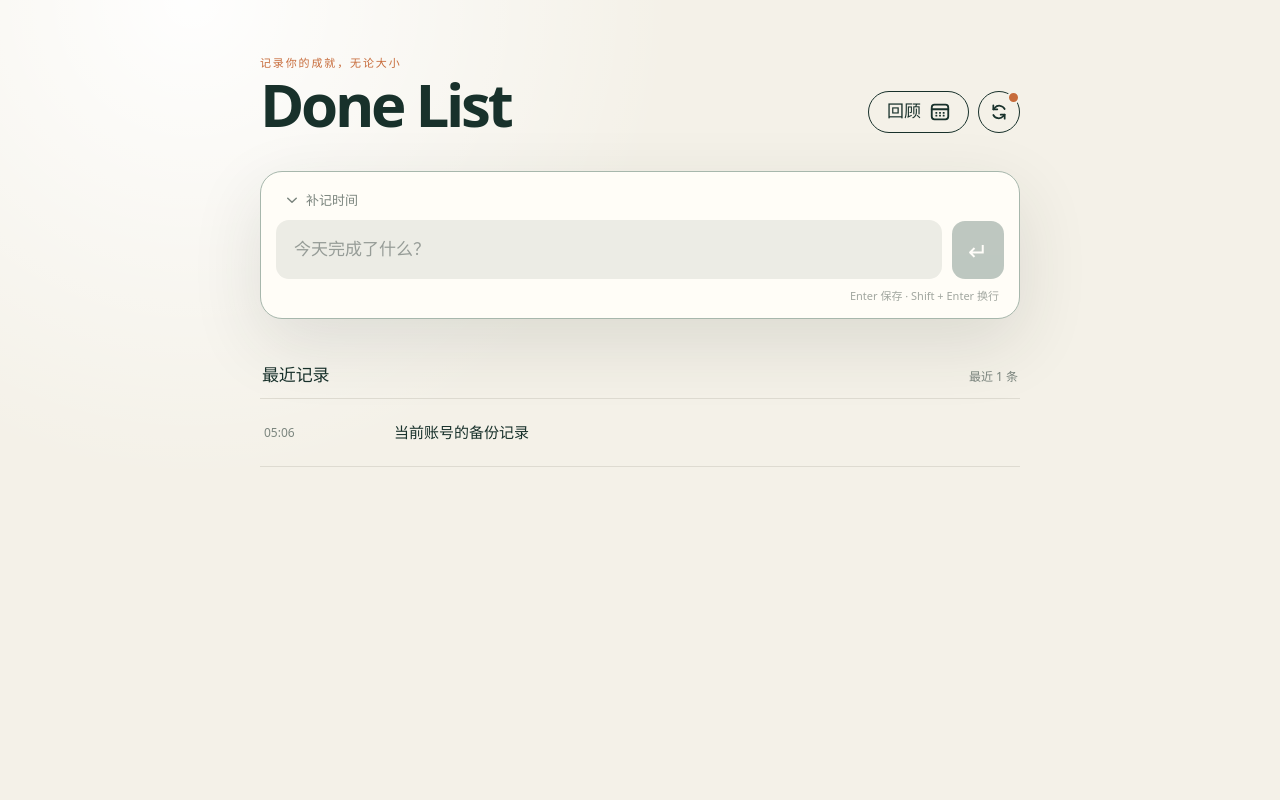
Test case: App: local records before background sync › exports only the signed-in account through the collapsed data-management entry
The image size is (1280, 800).
Check: the text "当前账号的备份记录" is shown, box [394,422,529,442]
Click the button named "同步与账户". click: (999, 112)
box: [978,91,1020,133]
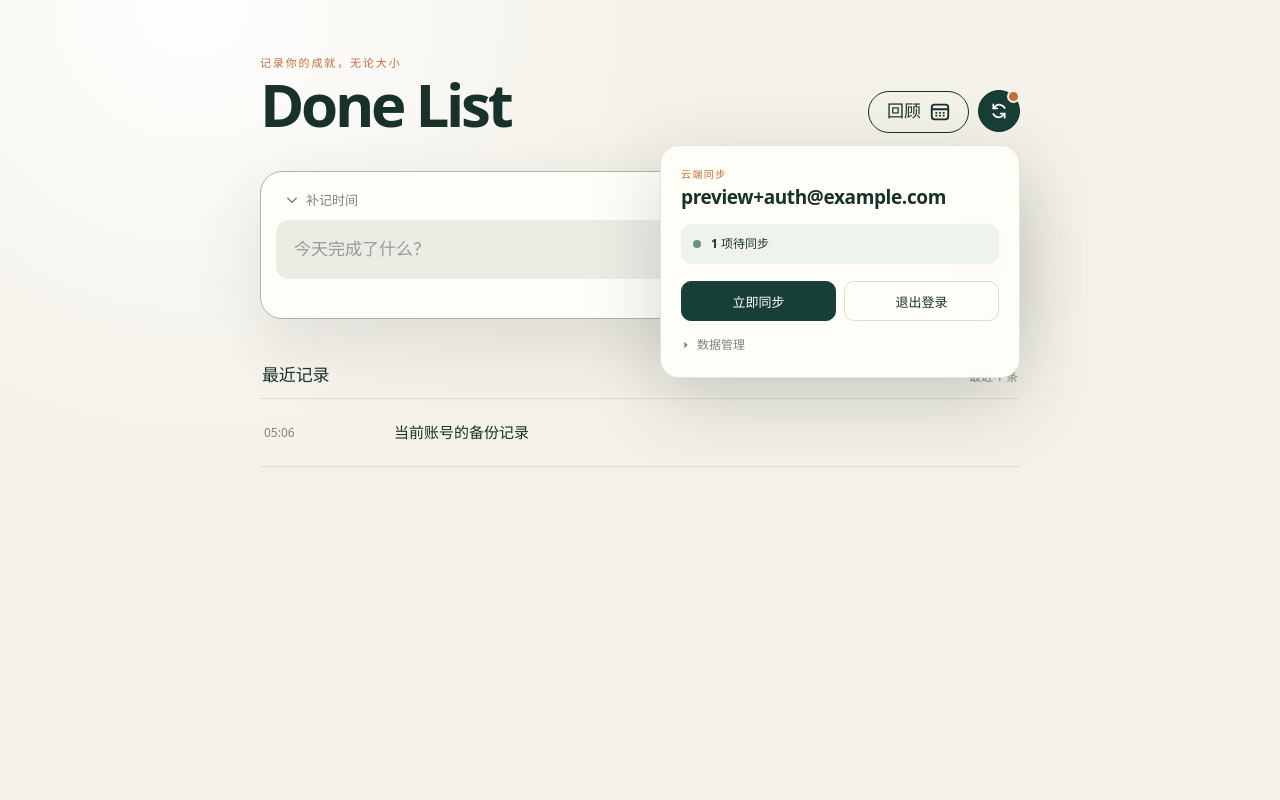
Click the heading "数据管理". click: (713, 344)
box: [681,336,745,353]
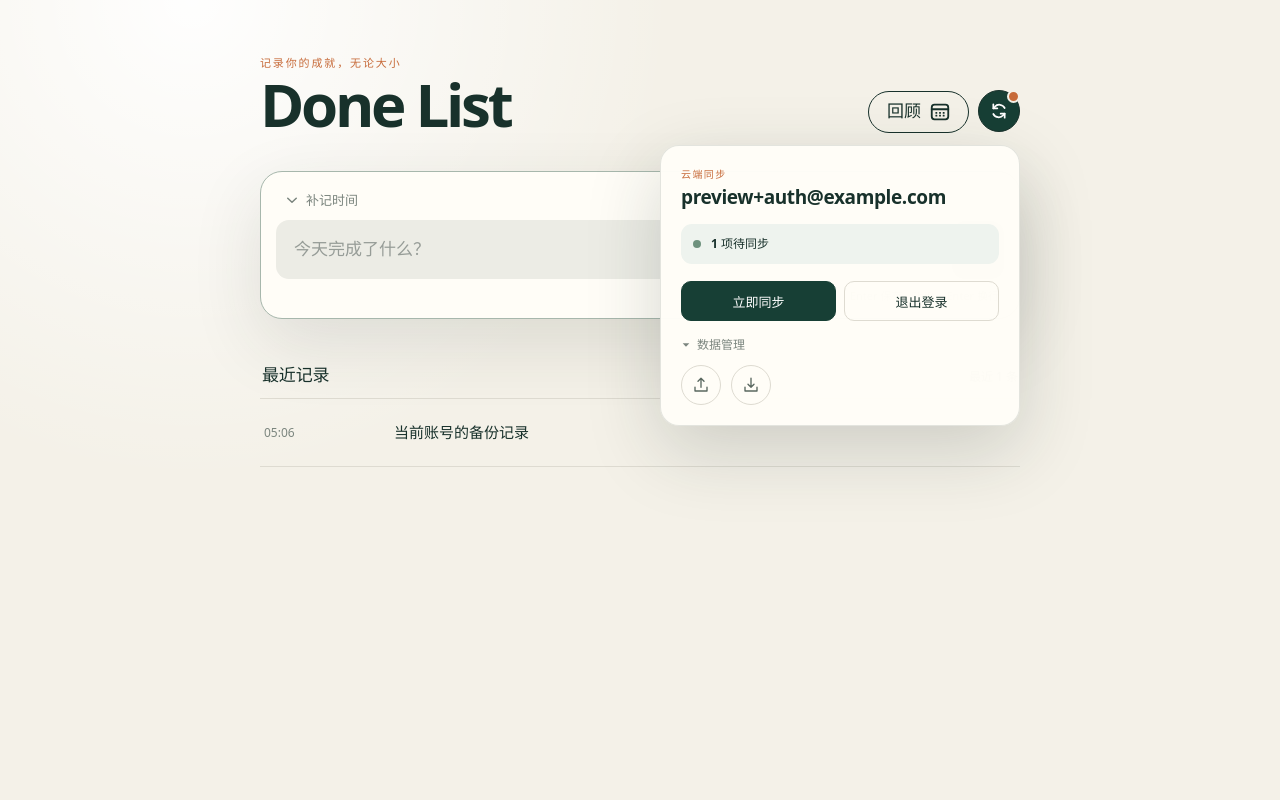
Click the button named "导出数据". click: (701, 385)
box: [681,365,721,405]
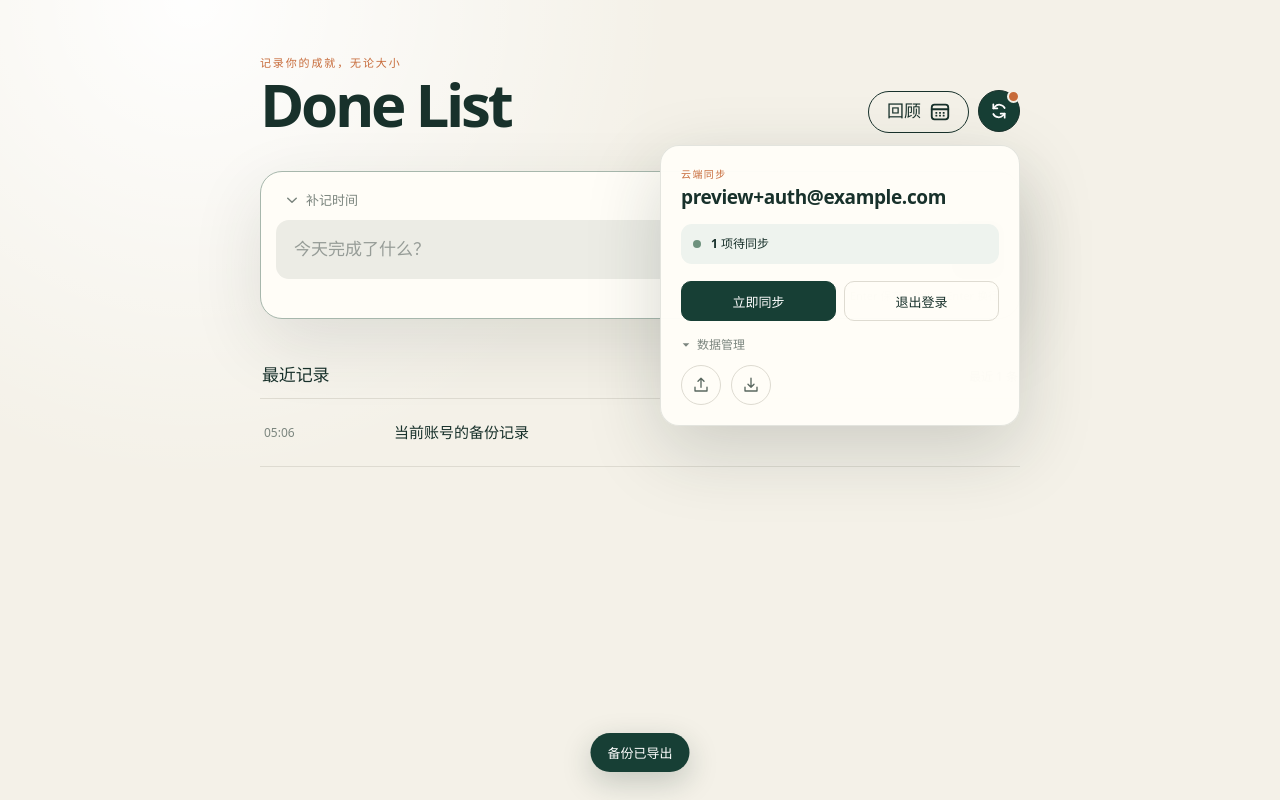
Check: the text "备份已导出" is shown, box [590,733,690,772]
